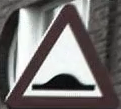Speed Breaker ahead: (9, 3, 116, 105)
